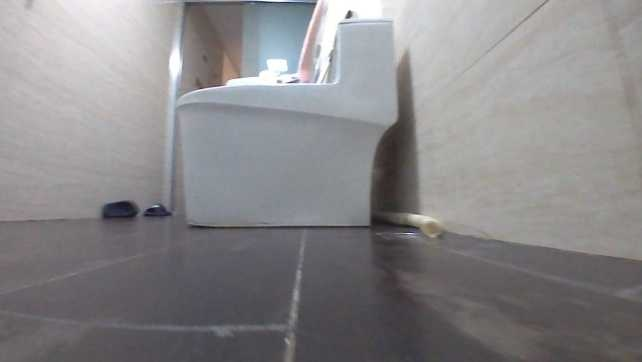toilet: (177, 17, 399, 229)
